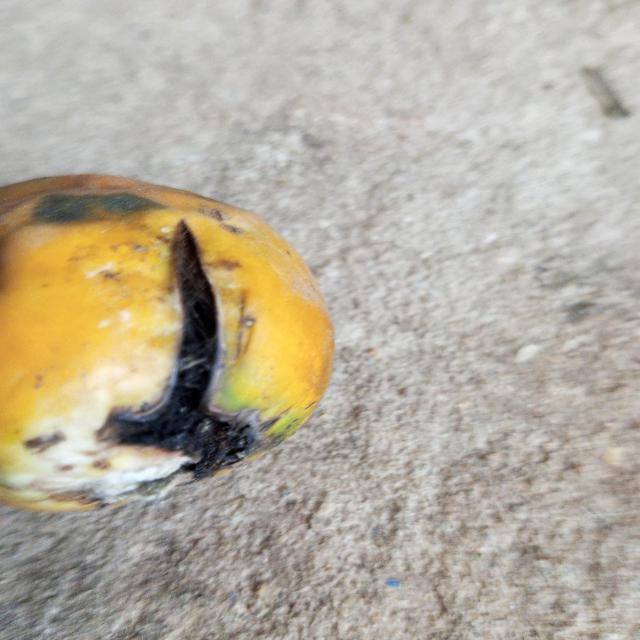damaged: (0, 174, 335, 516)
